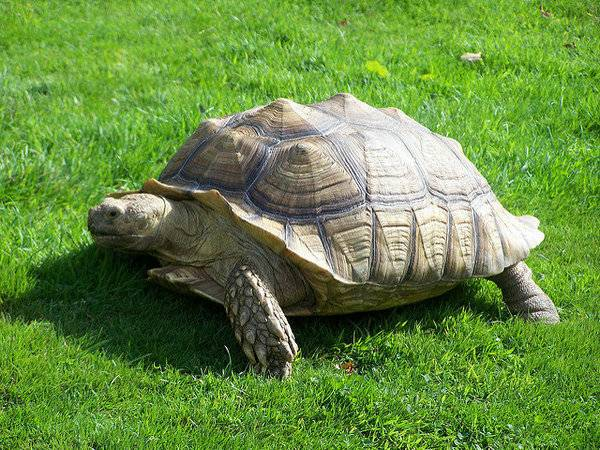tortoise: (82, 94, 562, 383)
